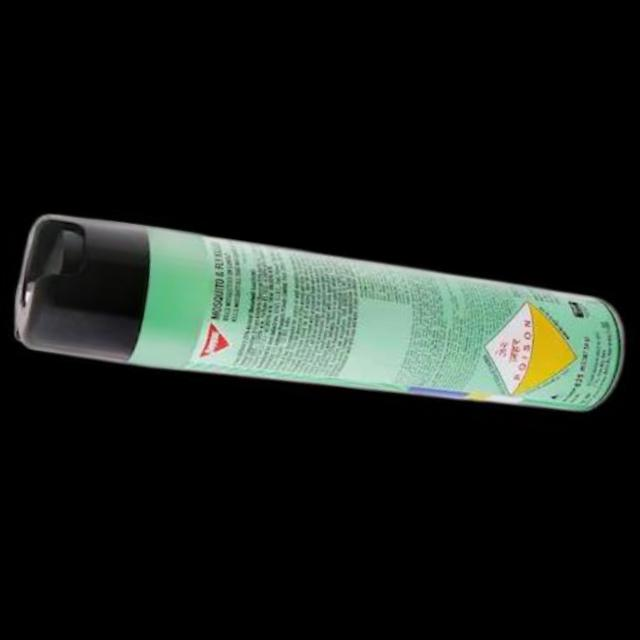Baygon Mosquito - Fly Killer Spray 625 ml: (7, 207, 636, 436)
